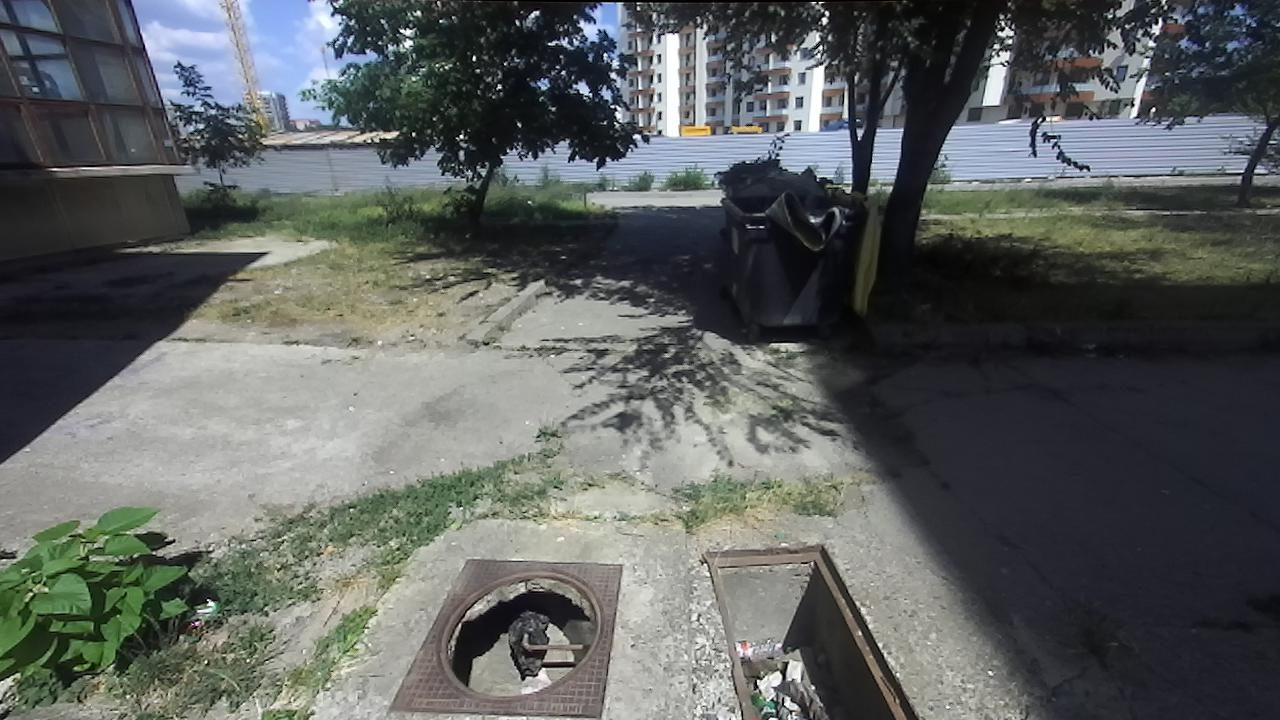drain: (701, 538, 921, 719), (424, 568, 605, 700)
